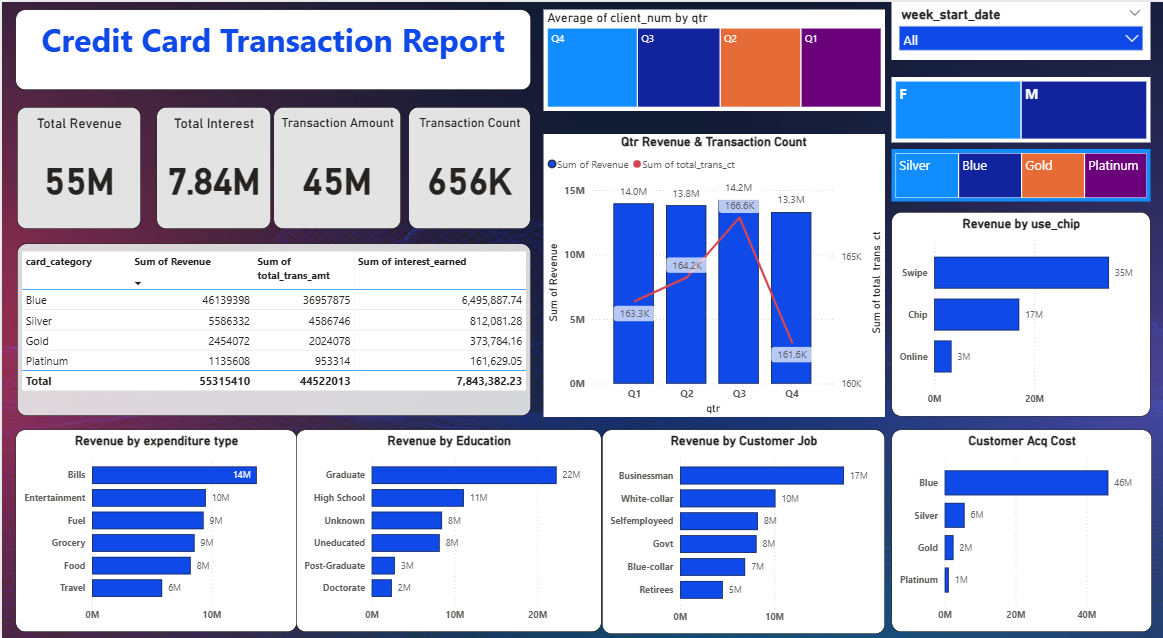

What the dashboard file says about the page in this screenshot:
{"tool":"powerbi","page":{"name":"cc_transaction","canvas":[1550,850],"ordinal":0},"visuals":[{"type":"textbox","box":[17.5,10,687.5,107.5],"z":0},{"type":"lineStackedColumnComboChart","title":"Qtr Revenue & Transaction Count","fields":{"Category":["public cc_detail.qtr"],"Y":["Sum(public cc_detail.Revenue)"],"Y2":["Sum(public cc_detail.total_trans_ct)"]},"box":[722.5,175,455,377.5],"z":1000},{"type":"barChart","title":" Revenue by expenditure type","fields":{"Category":["public cc_detail.exp_type"],"Y":["Sum(public cc_detail.Revenue)"]},"box":[17.5,570,375,270],"z":2000},{"type":"barChart","title":"Revenue by Education","fields":{"Category":["public cust_detail.education_level"],"Y":["Sum(public cc_detail.Revenue)"]},"box":[392.5,570,407.5,270],"z":3000},{"type":"barChart","title":"Revenue by Customer Job","fields":{"Category":["public cust_detail.customer_job"],"Y":["Sum(public cc_detail.Revenue)"]},"box":[800,570,377.5,272.5],"z":4000},{"type":"barChart","title":"Customer Acq Cost","fields":{"Category":["public cc_detail.card_category"],"Y":["Sum(public cc_detail.Revenue)"]},"box":[1185,570,347.5,270],"z":5000},{"type":"barChart","title":" Revenue by use_chip","fields":{"Category":["public cc_detail.use_chip"],"Y":["Sum(public cc_detail.Revenue)"]},"box":[1185,280,345,272.5],"z":6000},{"type":"tableEx","fields":{"Values":["public cc_detail.card_category","Sum(public cc_detail.Revenue)","Sum(public cc_detail.total_trans_amt)","Sum(public cc_detail.interest_earned)"]},"box":[20,322.5,685,230],"z":7000},{"type":"card","title":"Total Interest","fields":{"Values":["Sum(public cc_detail.interest_earned)"]},"box":[205,140,152.5,162.5],"z":8000},{"type":"card","title":"Transaction Amount","fields":{"Values":["Sum(public cc_detail.total_trans_amt)"]},"box":[362.5,140,170,162.5],"z":9000},{"type":"card","title":"Transaction Count","fields":{"Values":["Sum(public cc_detail.total_trans_ct)"]},"box":[542.5,140,162.5,162.5],"z":10000},{"type":"slicer","fields":{"Values":["public cc_detail.week_start_date"]},"box":[1185,0,345,77.5],"z":11000},{"type":"treemap","fields":{"Group":["public cc_detail.qtr"],"Values":["Avg(public cc_detail.client_num)"]},"box":[722.5,10,455,135],"z":12000},{"type":"treemap","fields":{"Group":["public cust_detail.gender"],"Values":["Avg(public cc_detail.client_num)"]},"box":[1185,100,345,87.5],"z":13000},{"type":"treemap","fields":{"Group":["public cc_detail.card_category"],"Values":["Avg(public cc_detail.client_num)"]},"box":[1185,195,345,70],"z":14000},{"type":"card","title":"Total Revenue","fields":{"Values":["Sum(public cc_detail.Revenue)"]},"box":[20,140,165,162.5],"z":15000}]}

Visuals, with their boxes in screenshot pixels (x1, y1, x2, y2), scaled from the page's 1550x850 canvas onto the 1163x638 screenshot:
textbox: bbox=(13, 8, 529, 88)
"Qtr Revenue & Transaction Count" lineStackedColumnComboChart: bbox=(542, 131, 884, 415)
" Revenue by expenditure type" barChart: bbox=(13, 428, 295, 630)
"Revenue by Education" barChart: bbox=(295, 428, 600, 630)
"Revenue by Customer Job" barChart: bbox=(600, 428, 884, 632)
"Customer Acq Cost" barChart: bbox=(889, 428, 1150, 630)
" Revenue by use_chip" barChart: bbox=(889, 210, 1148, 415)
tableEx - public cc_detail.card_category x Sum(public cc_detail.Revenue): bbox=(15, 242, 529, 415)
"Total Interest" card: bbox=(154, 105, 268, 227)
"Transaction Amount" card: bbox=(272, 105, 400, 227)
"Transaction Count" card: bbox=(407, 105, 529, 227)
slicer - public cc_detail.week_start_date: bbox=(889, 0, 1148, 58)
treemap - public cc_detail.qtr x Avg(public cc_detail.client_num): bbox=(542, 8, 884, 109)
treemap - public cust_detail.gender x Avg(public cc_detail.client_num): bbox=(889, 75, 1148, 141)
treemap - public cc_detail.card_category x Avg(public cc_detail.client_num): bbox=(889, 146, 1148, 199)
"Total Revenue" card: bbox=(15, 105, 139, 227)
